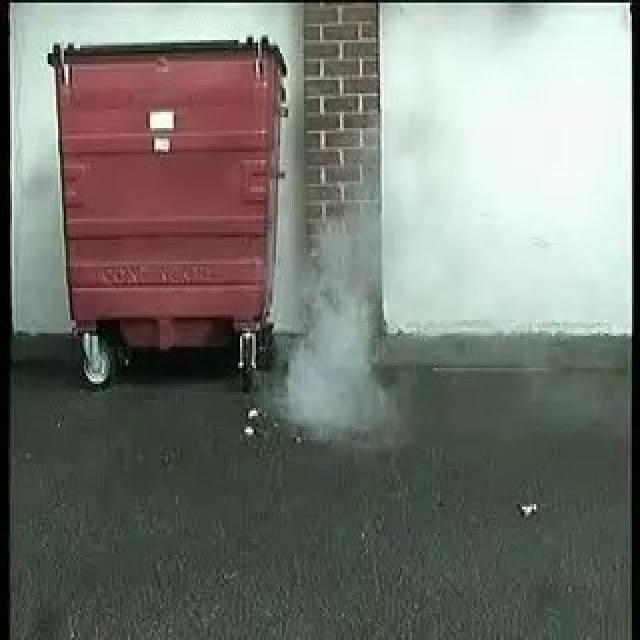smoke: (272, 221, 387, 423)
